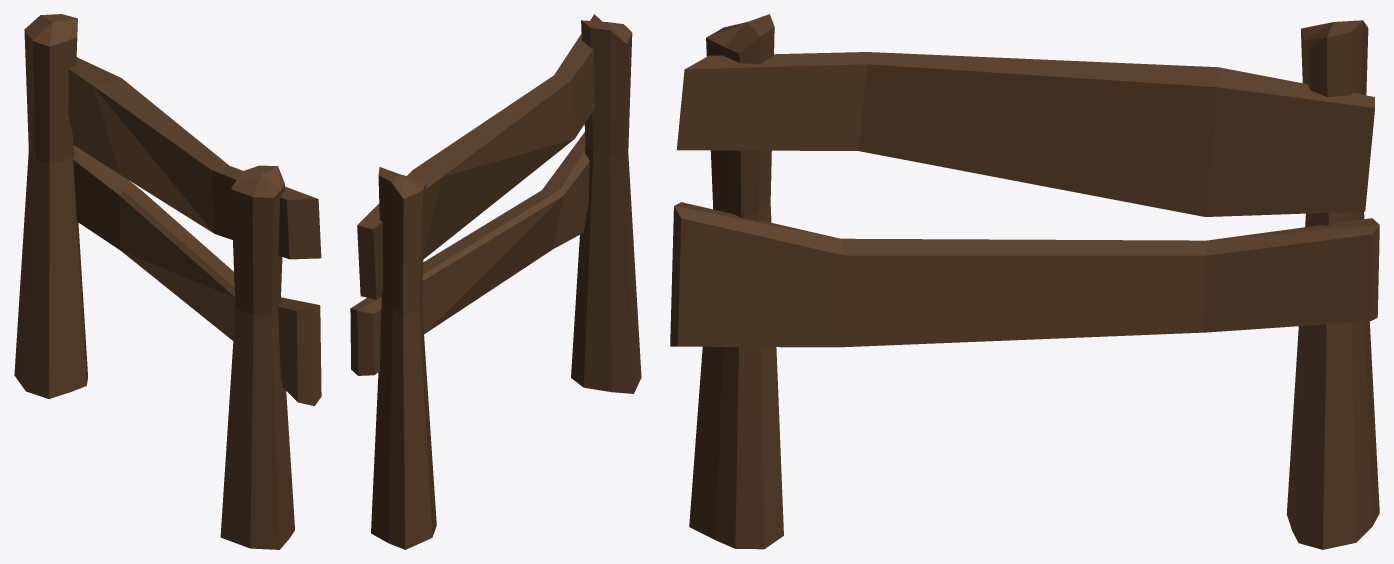
The model's file is railFence2-compressed.glb.
The picture shows the model from 3 angles, left to right: view 1: azimuth 30°, elevation 25°; view 2: azimuth 150°, elevation 25°; view 3: azimuth 270°, elevation 25°; orthographic projection. The views are drawn at different scales.
Visible parts, largest first — view 1: railFence2; view 2: railFence2; view 3: railFence2.
Part boxes in pixels (bbox=[...]): railFence2: bbox=[14, 14, 321, 549]; railFence2: bbox=[350, 14, 641, 549]; railFence2: bbox=[670, 14, 1379, 549].
Bounding box in the file's own units: 0.234 × 1.05 × 1.33.
